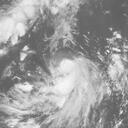cyclone: (54, 58, 93, 103)
